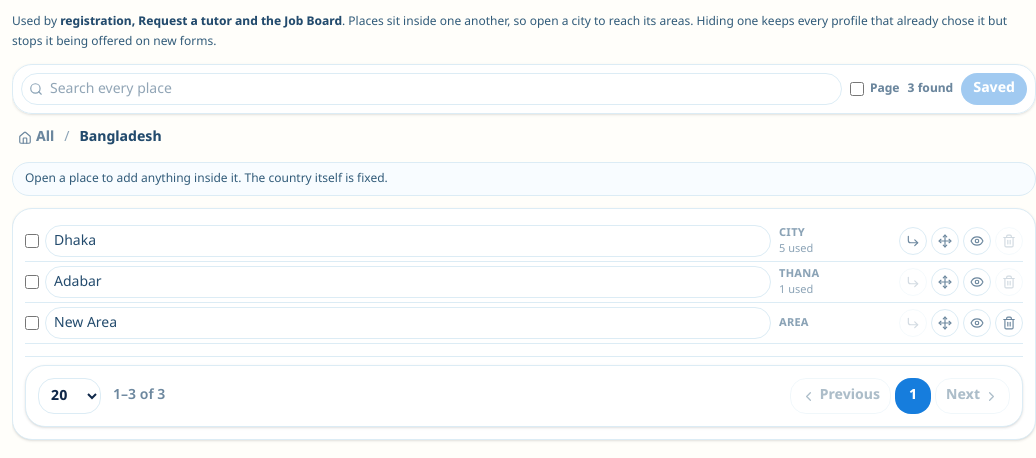
Scenario: location catalog manager › shows the path to each hit, because a name alone does not say which one it is
Type "bazar" into the field with placeholder "Search every place" at (432,89), box [21,73,842,105]
Wait 300 ms
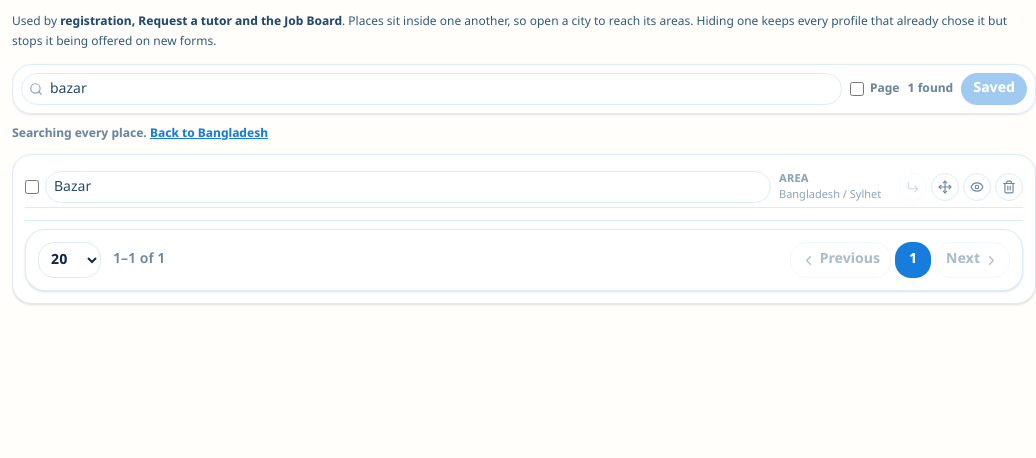
Check: the text "Bangladesh / Sylhet" is shown, box [779,187,891,203]
